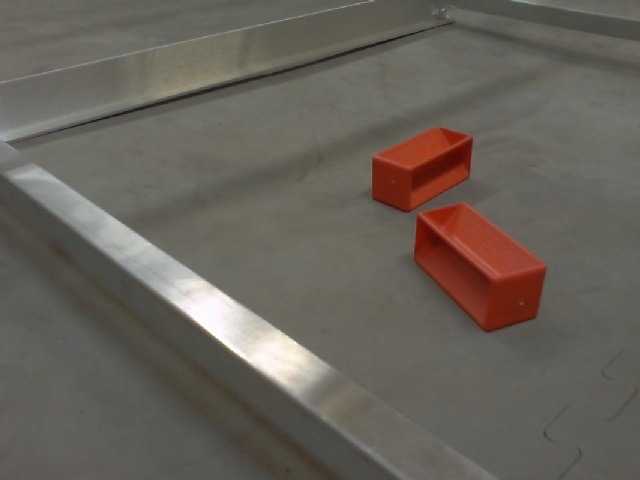RedSample: (411, 202, 545, 334), (369, 125, 472, 216)
